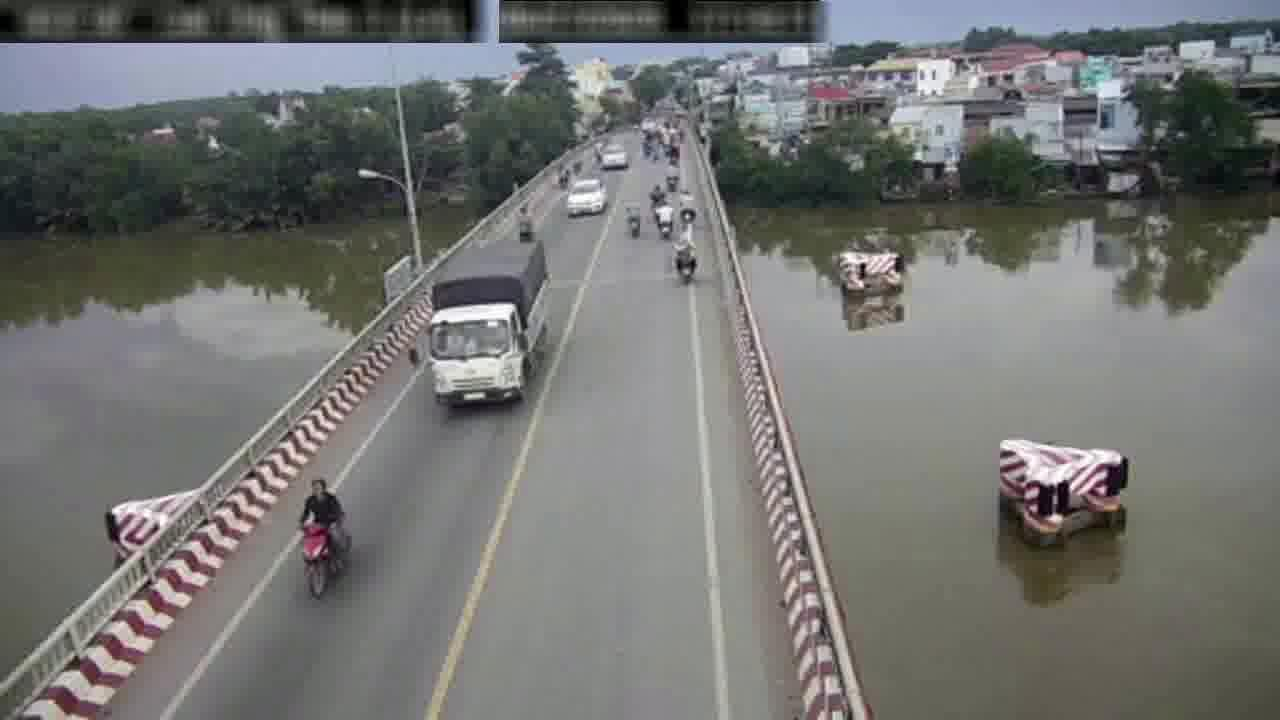8: (409, 235, 551, 415)
container: (563, 174, 605, 218), (599, 142, 629, 171)
motorbike: (296, 471, 353, 602), (674, 233, 696, 285), (655, 198, 674, 242)
